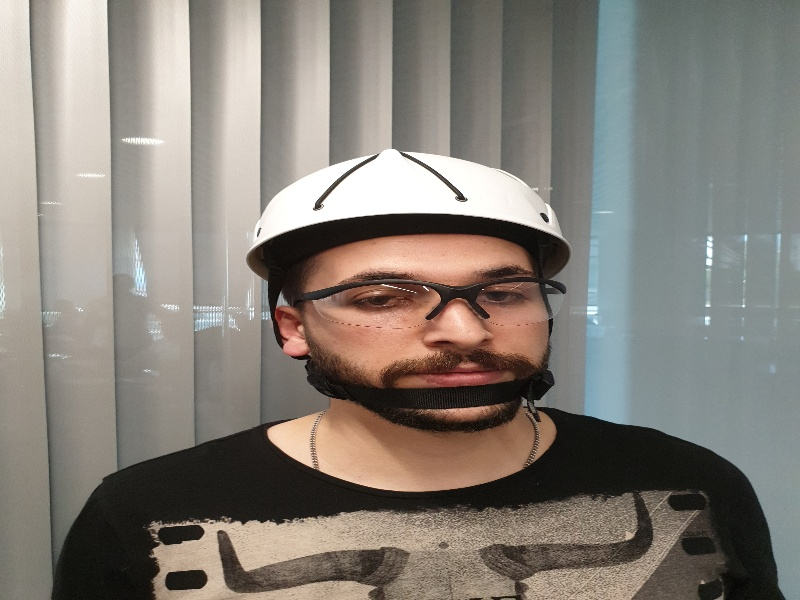Baret: (250, 150, 569, 244)
Gozluk: (303, 275, 568, 326)
